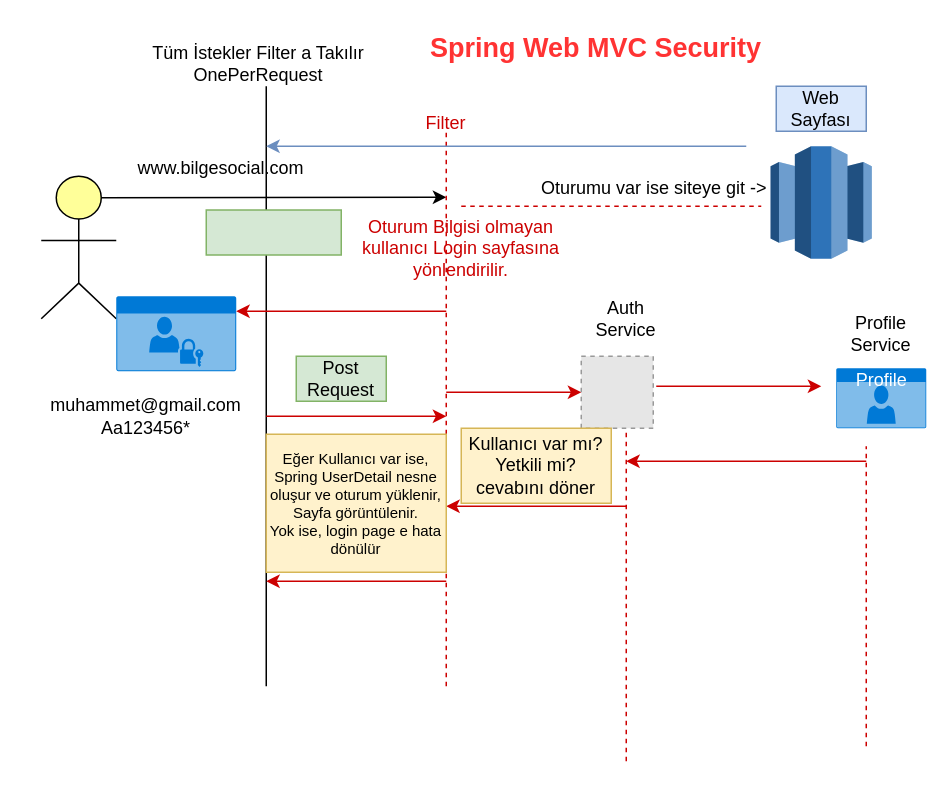
The diagram is 951 pixels wide and 789 high, and some of its shapes have lost their labels. Grey dashed boxes stand in for pictures. The shapes that lost their labels are listed below. From the top down, each one's box as (x1, y1, x2, y2) in pixels, then its label:
(205, 208, 341, 255): Get request
(116, 296, 236, 370): Login
